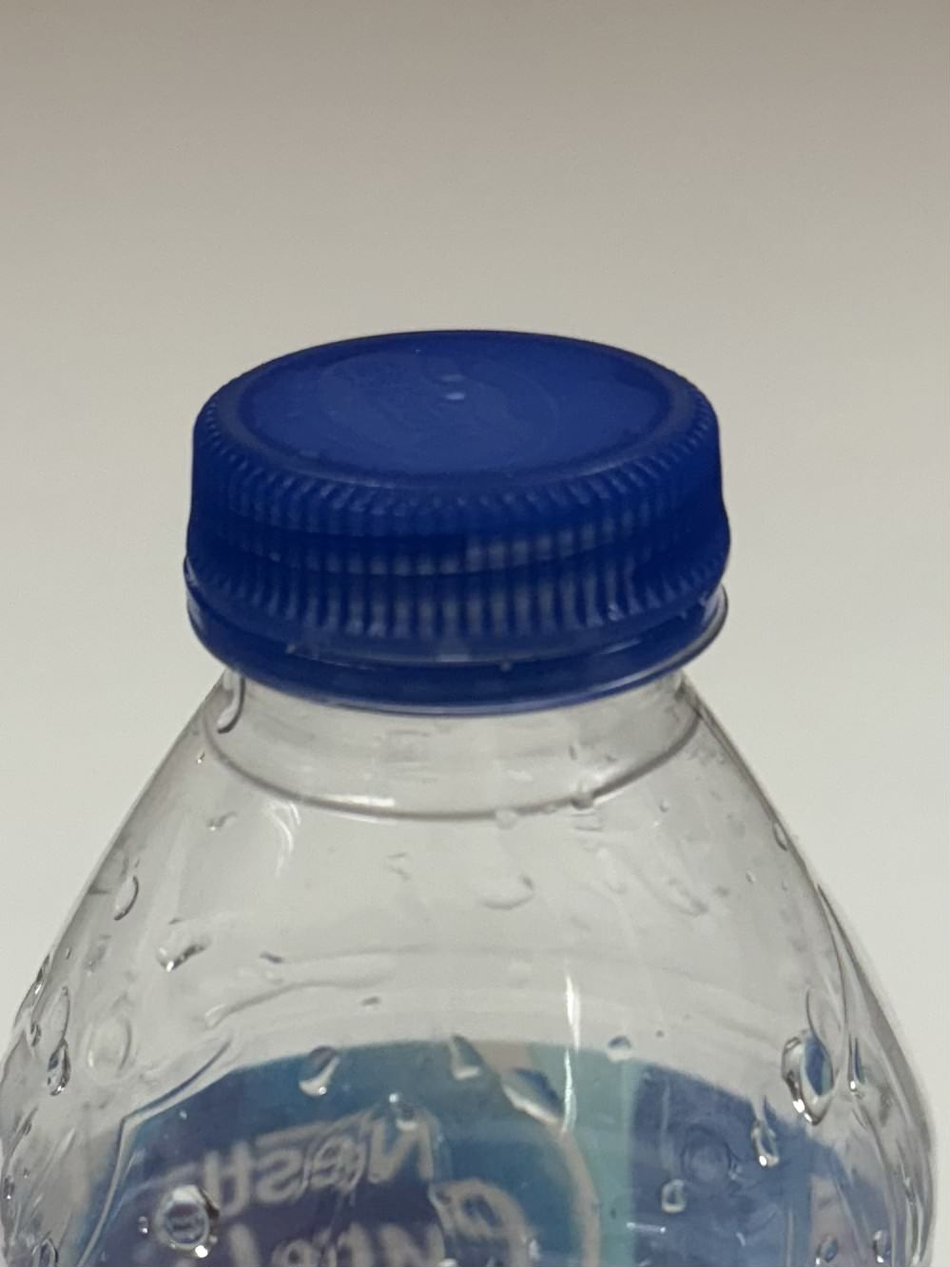closed_cap: (177, 320, 737, 712)
